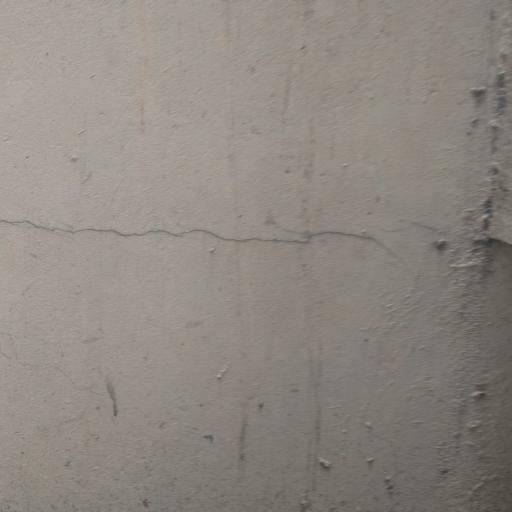minor_crack: (2, 192, 458, 270)
